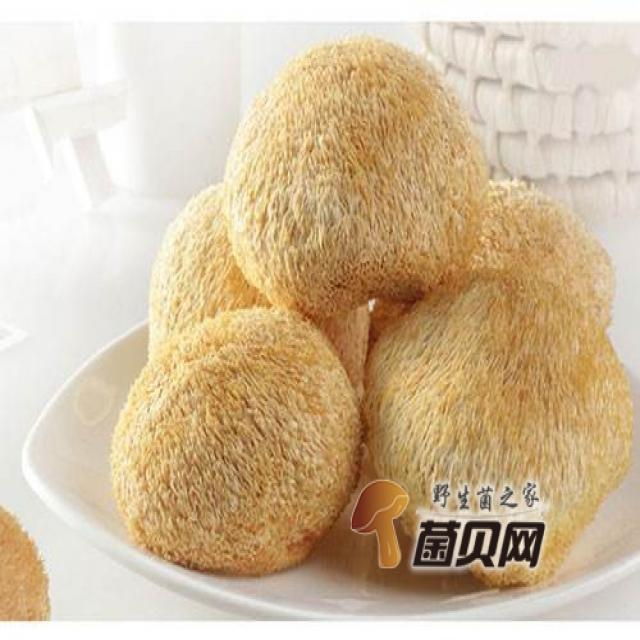Hericium erinaceus: (366, 272, 634, 588), (223, 34, 480, 318), (109, 309, 363, 576), (150, 183, 368, 386), (472, 175, 613, 327)
